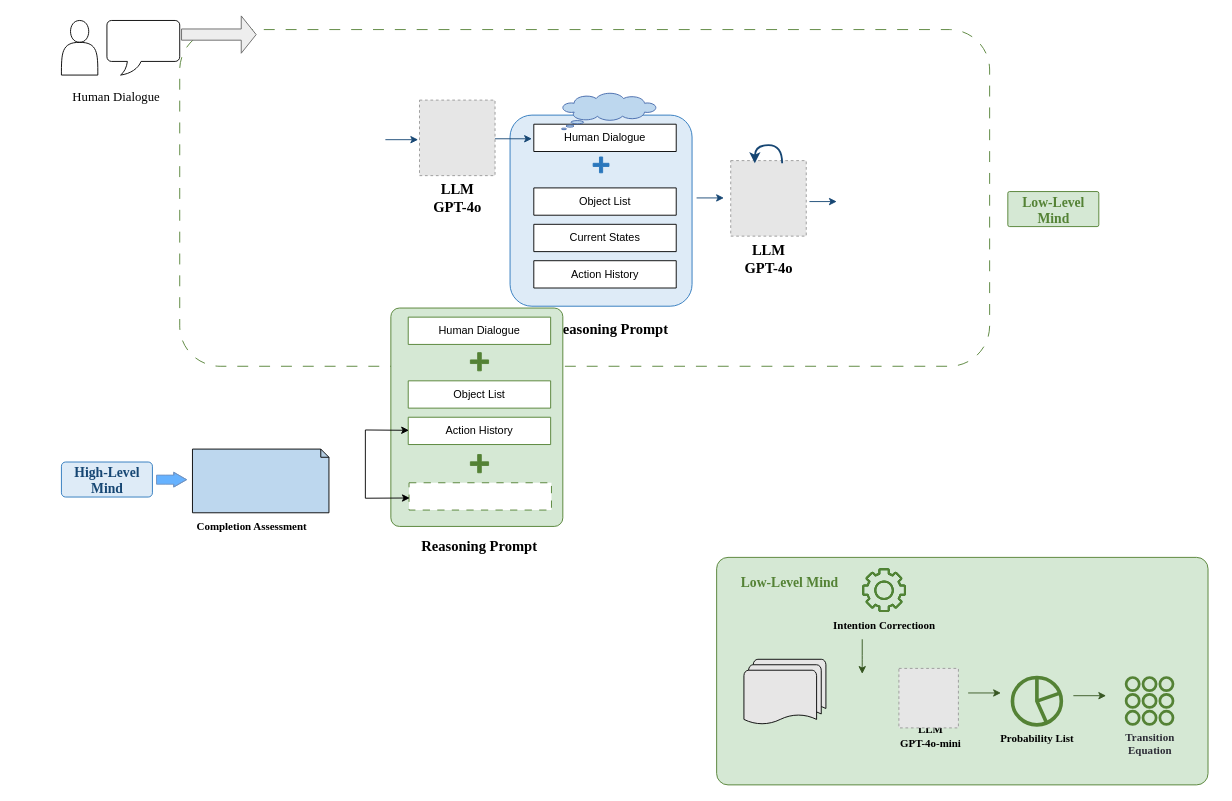
Some shapes in this 1232 by 801 pixel diagram are drawn without their labels. Grey dashed boxes stand in for pictures. The box of each missing label's shape, as (x1, y1, x2, y2) in pixels:
Human wants to have a coffee: (561, 92, 656, 130)
Human wants to have coffee Yes No: (192, 448, 329, 513)
I'm sleepy: (106, 20, 180, 75)
Intention Reasoning: (408, 482, 551, 510)
Object List: Action history:: (743, 658, 826, 725)
